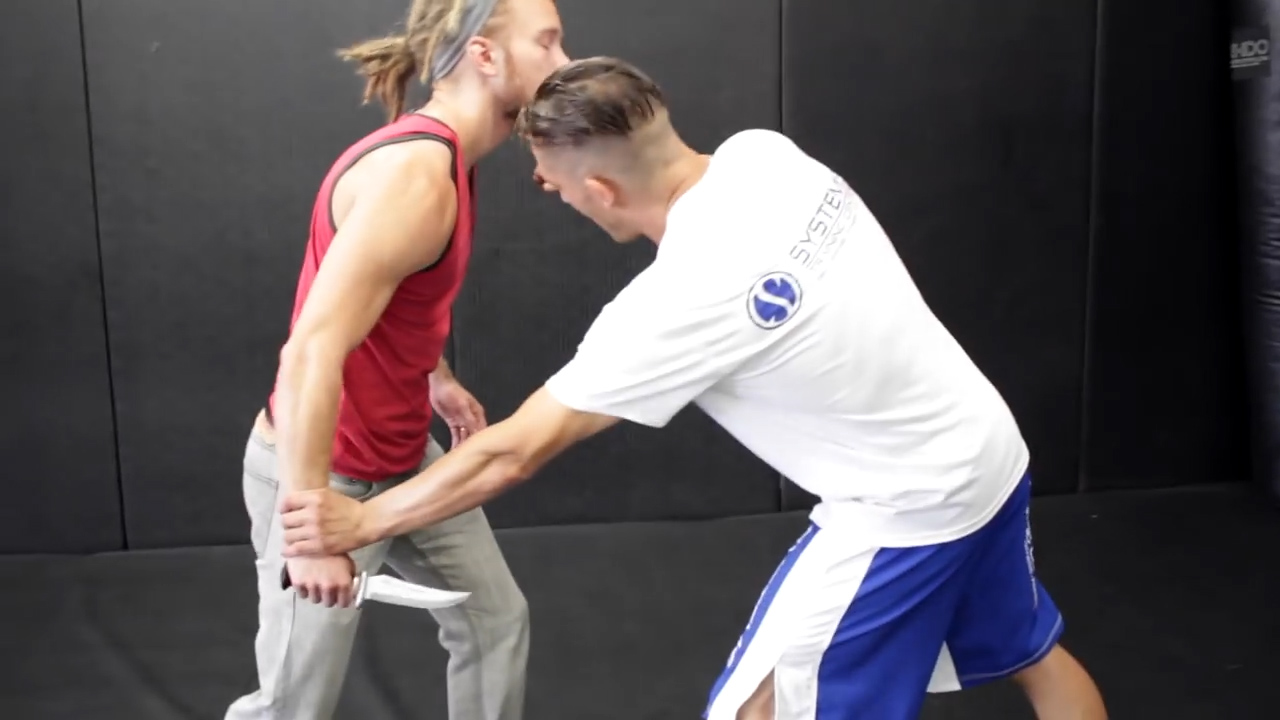knife: (267, 545, 488, 620)
